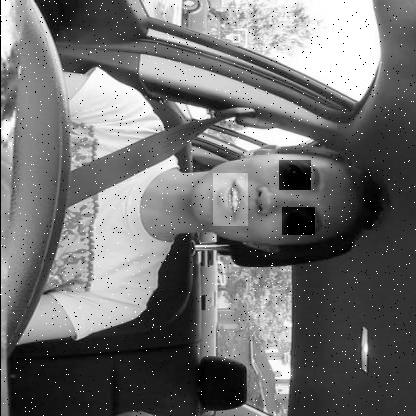seatbelt: (65, 129, 386, 269)
